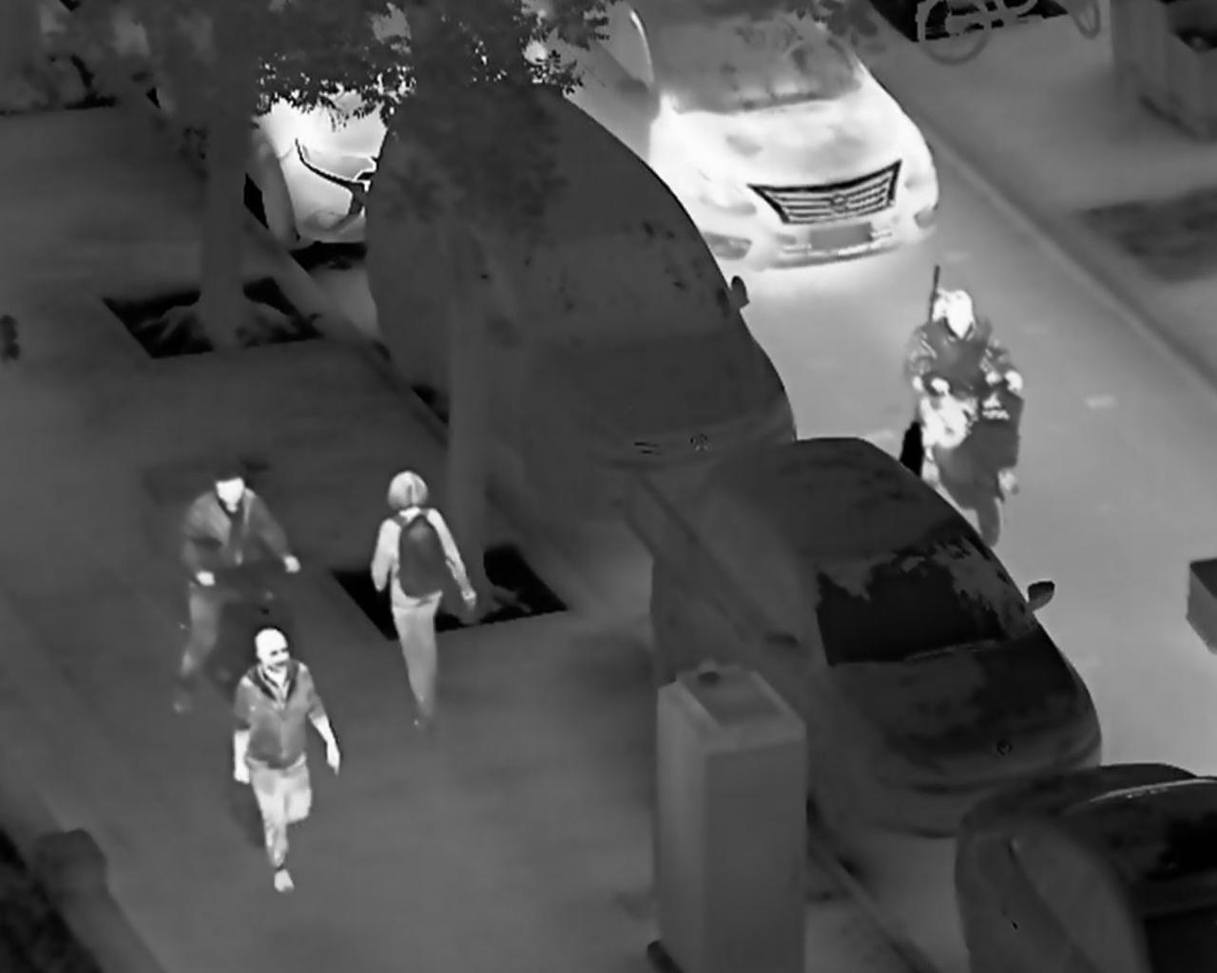person: (172, 463, 303, 720), (227, 625, 343, 894), (367, 467, 481, 737), (913, 287, 1024, 499)
